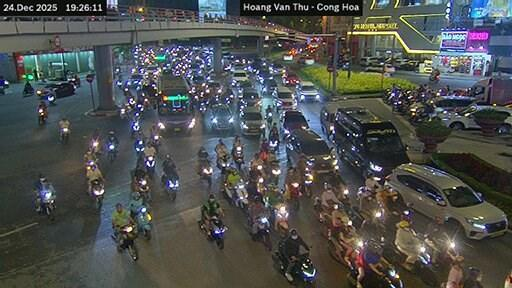motorbike: (410, 234, 438, 286), (326, 234, 362, 268), (361, 265, 403, 286), (198, 216, 226, 247), (291, 252, 316, 286), (115, 224, 137, 260), (223, 180, 248, 210), (252, 214, 271, 250), (272, 202, 288, 235), (272, 241, 288, 274), (134, 206, 150, 238), (314, 197, 336, 220), (38, 189, 54, 220), (160, 172, 178, 199), (383, 244, 406, 261), (288, 181, 300, 211), (198, 158, 211, 185), (409, 106, 428, 124), (90, 180, 102, 207), (268, 160, 281, 184), (303, 166, 313, 197), (137, 179, 150, 202), (217, 153, 230, 174), (233, 145, 243, 170), (144, 156, 154, 178), (106, 142, 117, 162), (346, 268, 357, 287), (268, 134, 278, 152), (89, 139, 99, 157), (134, 139, 144, 156), (118, 104, 130, 117), (60, 126, 69, 143), (150, 134, 160, 149), (86, 158, 96, 171), (131, 121, 140, 135), (38, 108, 45, 124), (22, 86, 34, 95), (265, 111, 272, 126), (70, 76, 80, 85), (128, 94, 134, 108), (198, 103, 207, 112), (429, 73, 438, 81), (135, 103, 143, 112), (48, 93, 54, 104), (156, 121, 163, 130), (115, 79, 122, 88), (249, 216, 252, 228)
